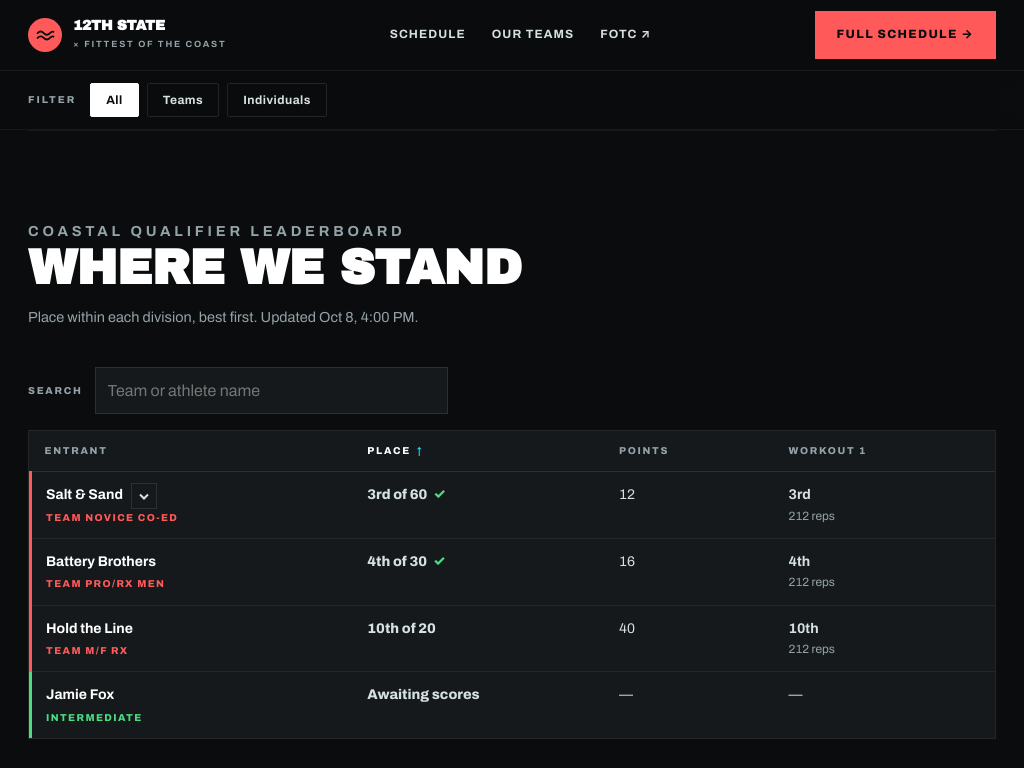
Road to Charleston › collapses a team's athletes again with the same arrow
Click the button named "show athletes for salt & sand": {"x": 144, "y": 496} left=131, top=483, right=157, bottom=509
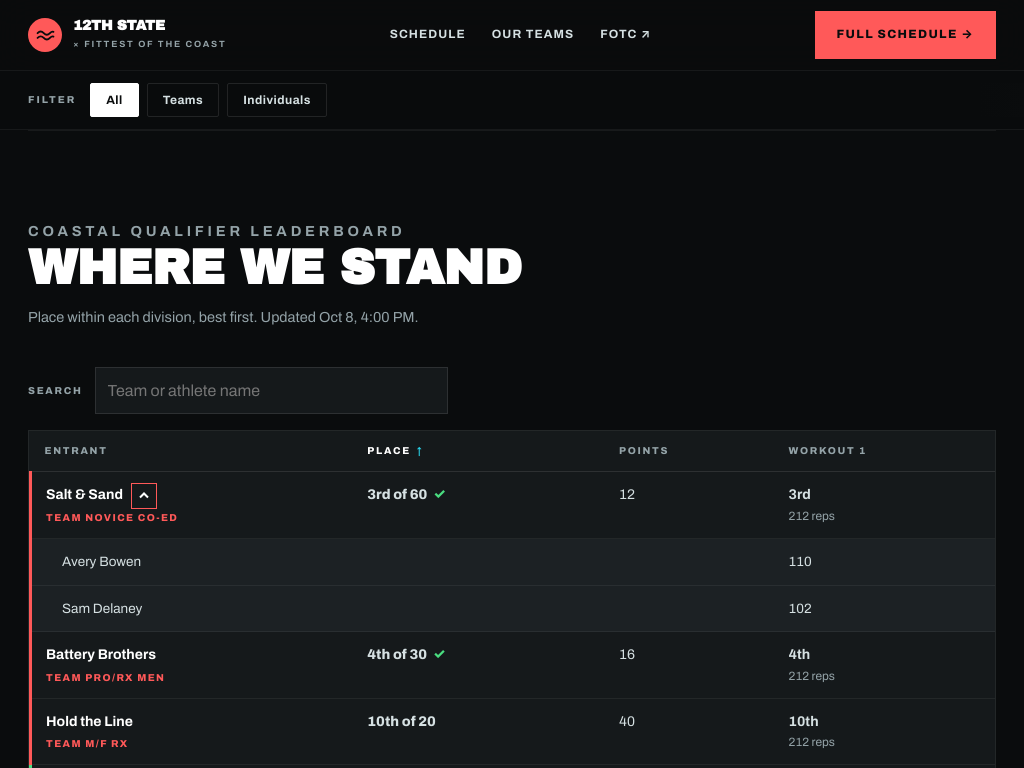
Click the button named "show athletes for salt & sand": {"x": 144, "y": 496} left=131, top=483, right=157, bottom=509
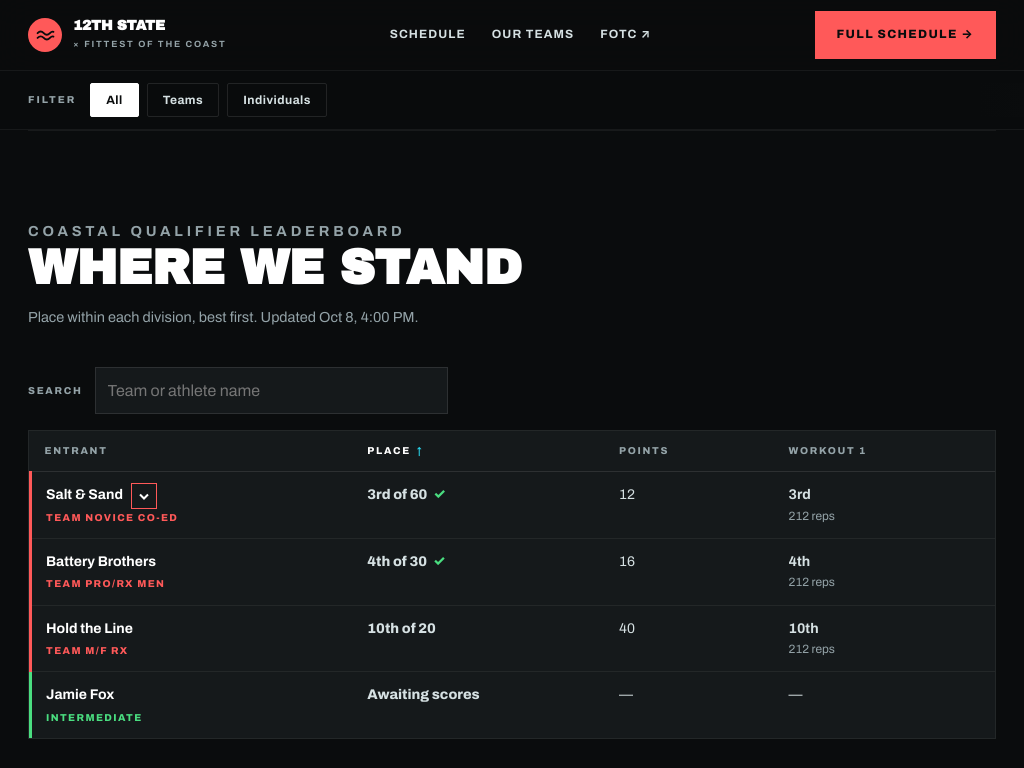
Expected: the row "Avery Bowen" is not shown
Now the button named "show athletes for salt & sand" is collapsed, box left=131, top=483, right=157, bottom=509
